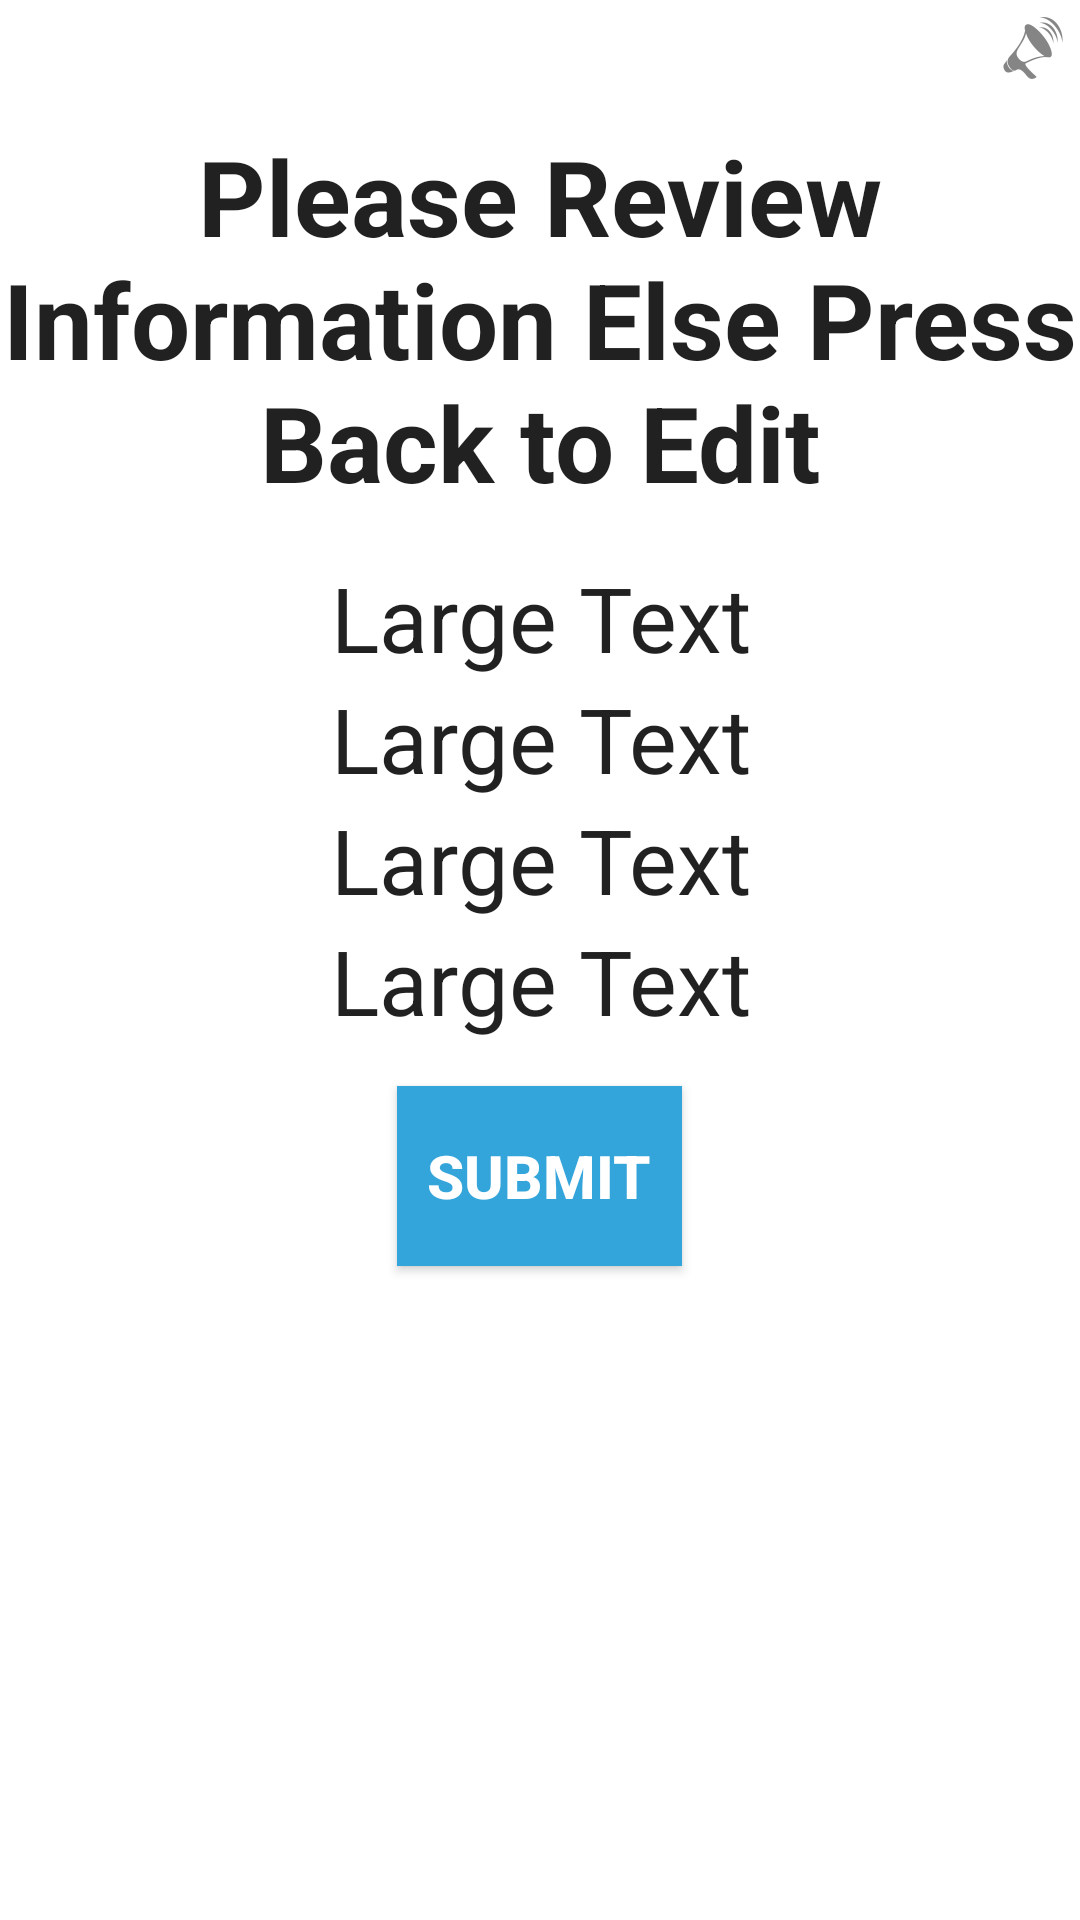

Icons on this 1080*1920 Android screen, each with the point to tap as point (x, y):
speaker: point (1033, 48)
